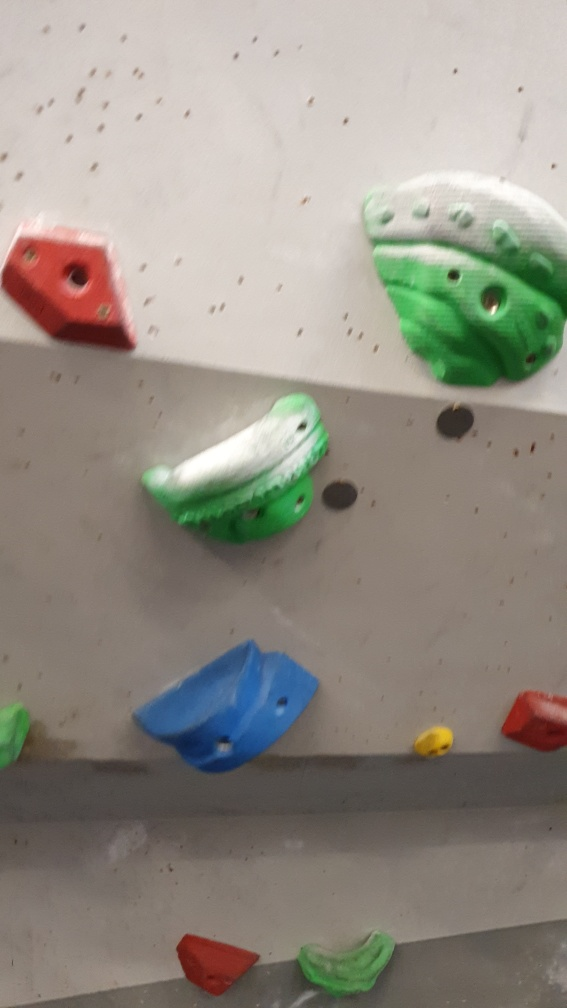Crimp: (1, 209, 143, 352), (501, 684, 567, 758)
Hand Start: (317, 471, 371, 512), (433, 396, 477, 446)
Jug: (353, 161, 566, 393), (134, 392, 336, 546), (289, 927, 398, 1000)
Pinch: (124, 634, 325, 780)
